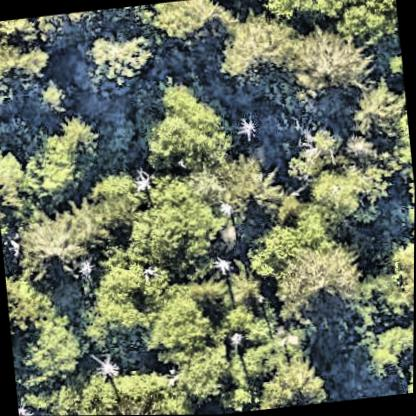tree-top: (139, 74, 243, 172), (124, 176, 220, 275), (19, 116, 106, 213), (79, 264, 155, 356), (269, 240, 361, 315), (289, 31, 374, 112), (72, 363, 193, 416), (221, 15, 299, 92), (13, 213, 91, 289), (23, 317, 86, 390), (145, 289, 214, 351), (84, 29, 153, 90), (258, 204, 328, 264), (306, 160, 377, 218), (176, 335, 235, 401), (255, 359, 331, 410), (317, 0, 399, 45), (146, 0, 220, 49), (285, 117, 342, 178), (352, 81, 408, 143), (373, 239, 415, 321), (225, 164, 281, 218), (26, 376, 89, 416), (5, 275, 49, 331), (367, 324, 414, 370), (7, 44, 52, 90), (225, 268, 266, 311), (27, 80, 71, 116), (0, 150, 25, 203), (242, 316, 275, 347), (229, 385, 261, 413), (381, 52, 404, 80), (399, 357, 414, 394)
